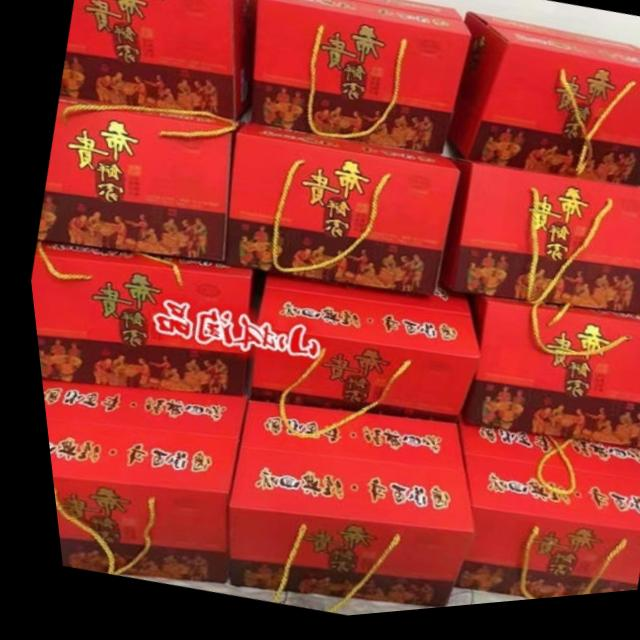box: (212, 403, 461, 614), (33, 378, 238, 586), (218, 125, 453, 304), (245, 0, 469, 160), (238, 277, 471, 430), (24, 239, 244, 399), (439, 432, 640, 607), (31, 95, 236, 266), (443, 19, 640, 195), (432, 166, 640, 324), (446, 304, 640, 461), (57, 0, 257, 123)
